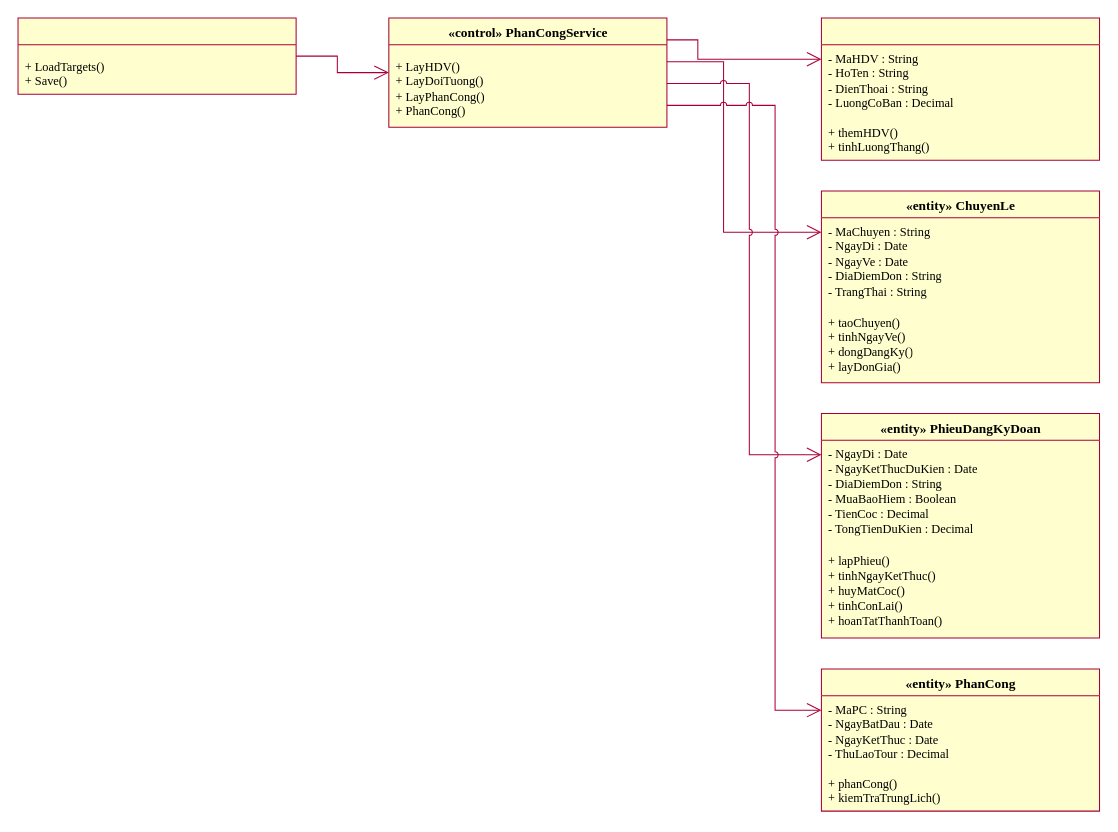
Some shapes in this 1118 by 832 pixel diagram are drawn without their labels. Each missing label, with the box of its shape:
«boundary» FrmPhanCongHDV: (17, 17, 296, 94)
«entity» HuongDanVien: (820, 17, 1100, 160)
